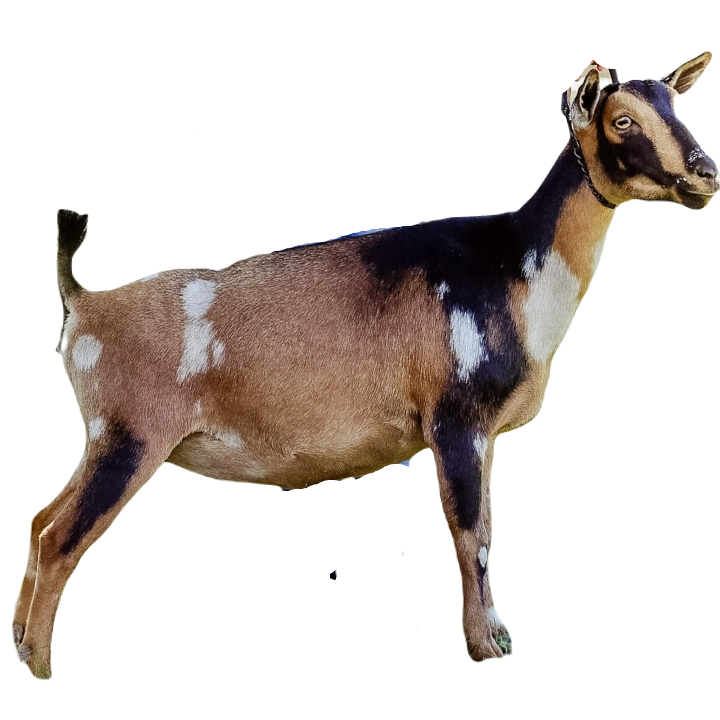Goat: (7, 49, 719, 677)
